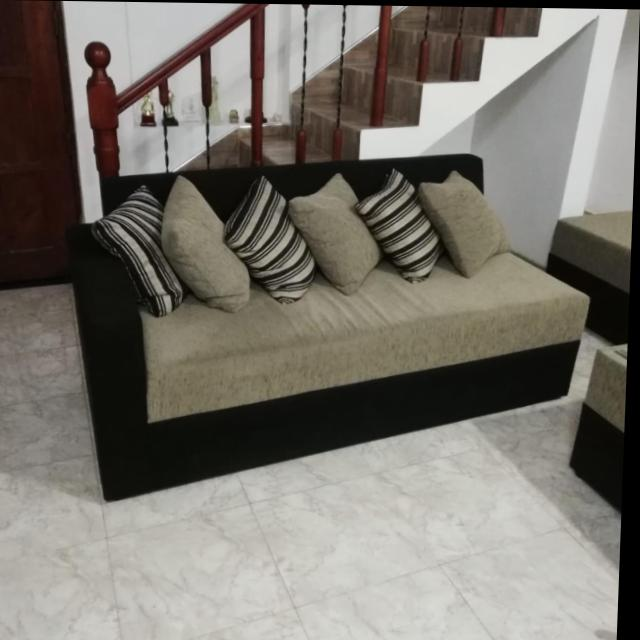Sofa: (60, 148, 593, 510)
